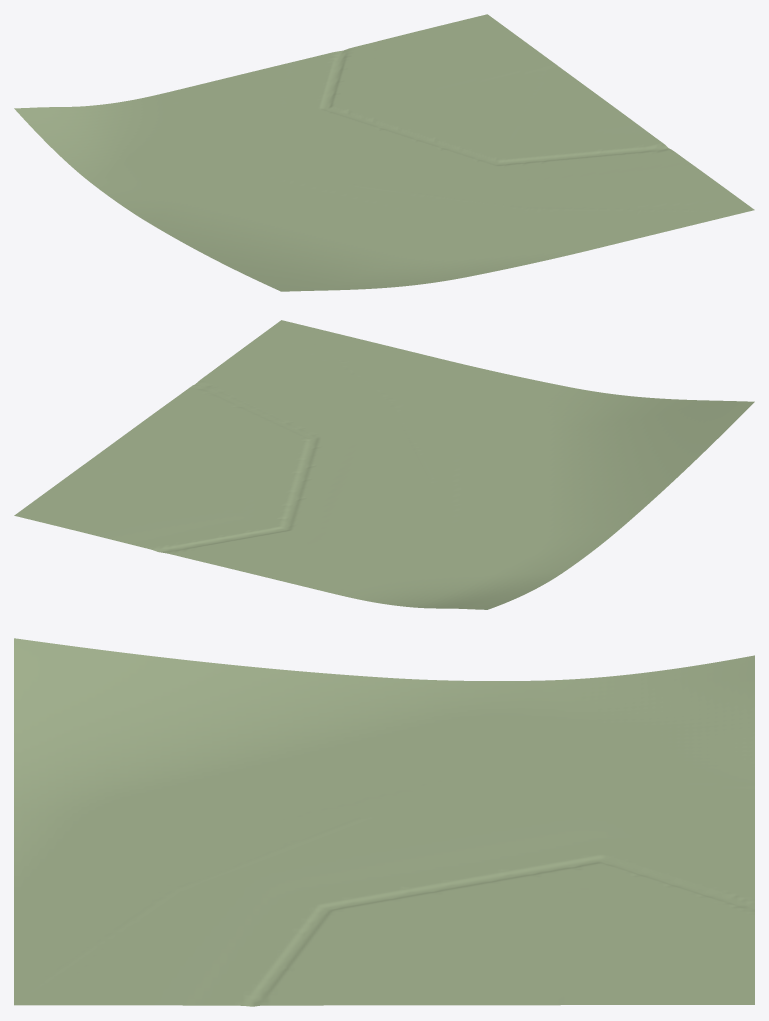
File: reedmere.glb
3 renders of one model, top to bottom at view 1: azimuth 30°, elevation 25°; view 2: azimuth 150°, elevation 25°; view 3: azimuth 270°, elevation 25°, orthographic. The views are drawn at different scales.
Visible parts, largest first — view 1: reedmere / saved 2m terrain; view 2: reedmere / saved 2m terrain; view 3: reedmere / saved 2m terrain.
Boxes of the visible parts, x1,y1,x2,y2 form: reedmere / saved 2m terrain: (14,14,754,291); reedmere / saved 2m terrain: (14,320,754,609); reedmere / saved 2m terrain: (14,638,754,1006).
Size of the model in its own units: 736 by 51.98 by 720.
